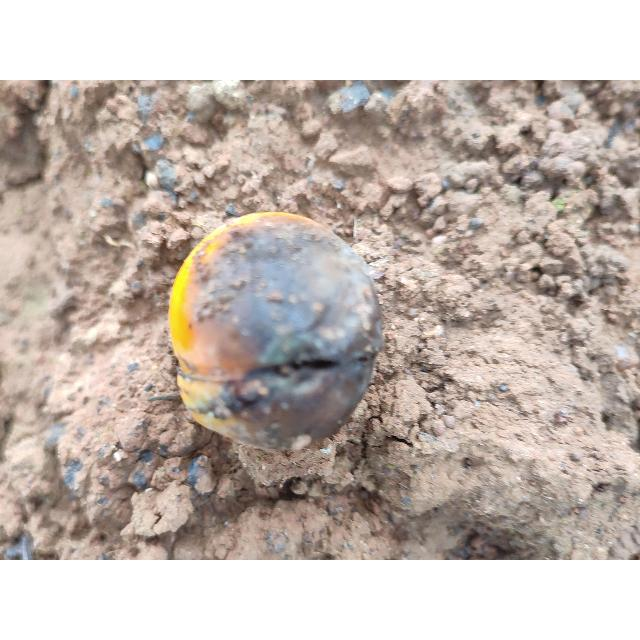damaged: (169, 212, 382, 450)
